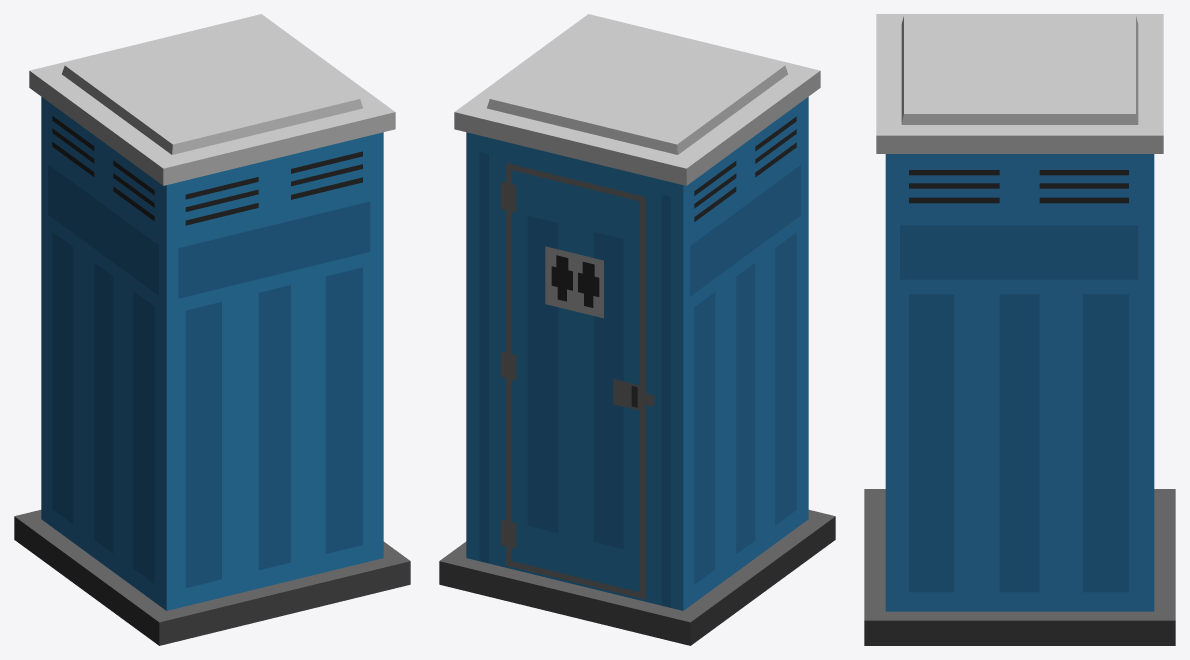
File: SM_Portaloo_01 (Andrew Stairs's conflicted copy 2017-03-21).fbx
3 views of the same model, side by side, from view 1: azimuth 30°, elevation 25°; view 2: azimuth 150°, elevation 25°; view 3: azimuth 270°, elevation 25° (orthographic). The views are drawn at different scales.
Visible parts, largest first — view 1: SM_Portaloo_01; view 2: SM_Portaloo_01; view 3: SM_Portaloo_01.
Boxes of the visible parts, x1,y1,x2,y2 form: SM_Portaloo_01: [14, 14, 410, 645]; SM_Portaloo_01: [439, 14, 835, 645]; SM_Portaloo_01: [864, 14, 1175, 645].
Bounding box in the file's own units: 2.15 × 3.93 × 2.15.
